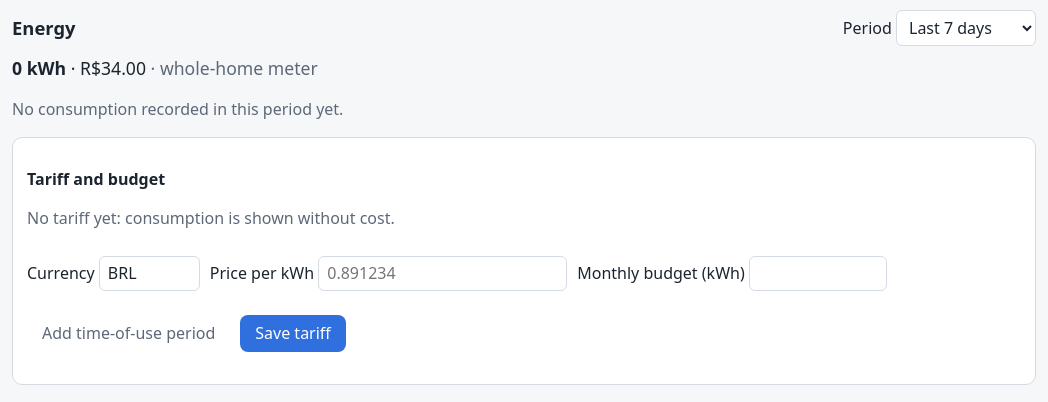
Test: Energy page › starts an empty tariff when the home has none and says a concurrent edit won
Expected: the text "No tariff yet: consumption is shown without cost." is shown, x1=27 y1=207 x2=395 y2=229
Expected: the text "No consumption recorded in this period yet." is shown, x1=12 y1=98 x2=343 y2=120
Type "0.8" into the field labelled "Price per kWh" at (443, 274), box x1=318 y1=256 x2=567 y2=291
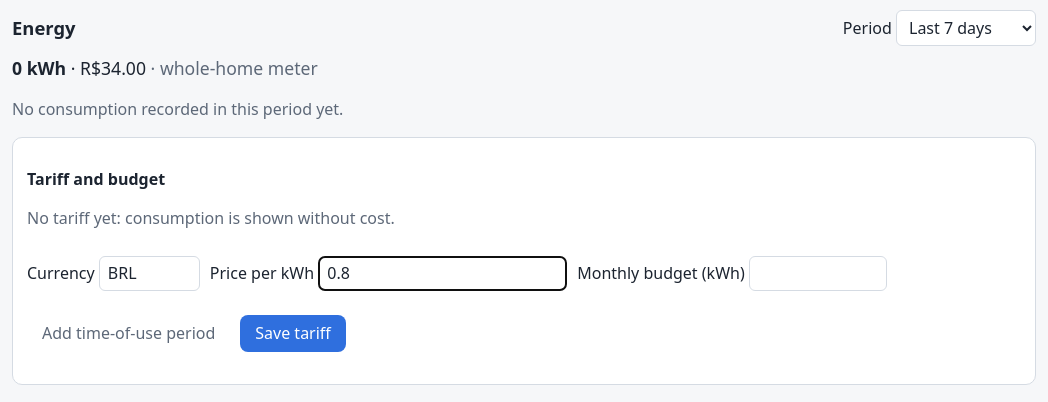
Click the button "Save tariff" at (293, 334), box x1=240 y1=315 x2=346 y2=352
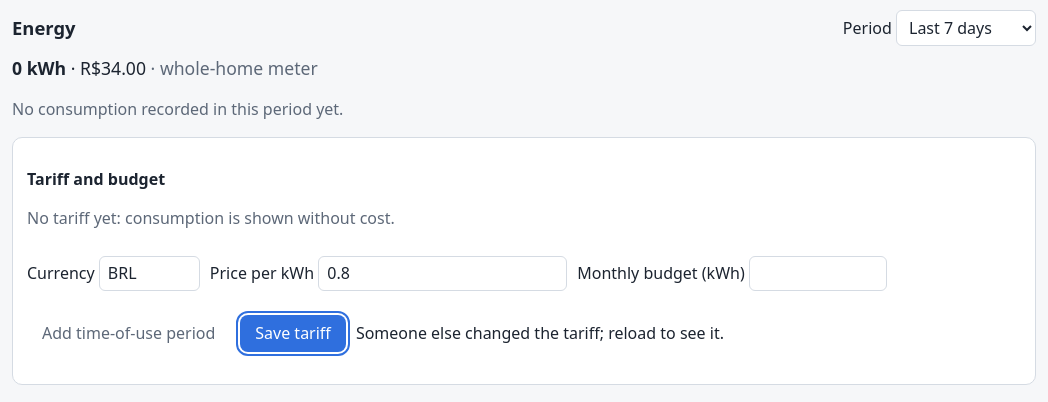
Result: the text "Someone else changed the tariff; reload to see it." is shown at x1=356 y1=322 x2=724 y2=346
